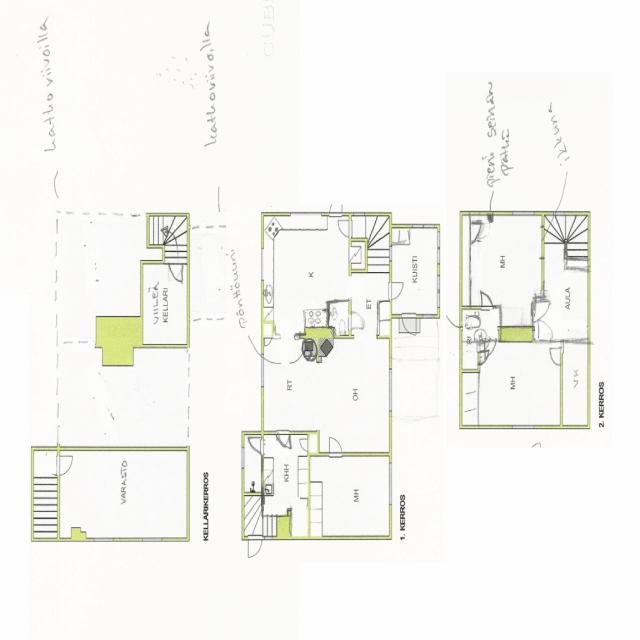door: (469, 221, 488, 243), (246, 537, 262, 561), (401, 314, 416, 338), (246, 437, 264, 457), (538, 316, 552, 341), (348, 311, 366, 330), (546, 347, 563, 367), (530, 303, 547, 322), (168, 260, 182, 283), (480, 288, 494, 310), (276, 431, 290, 452), (58, 456, 74, 474), (329, 194, 342, 216), (329, 434, 342, 456), (336, 220, 351, 236), (390, 283, 404, 299), (477, 351, 490, 364), (298, 438, 310, 451), (264, 335, 272, 348)
